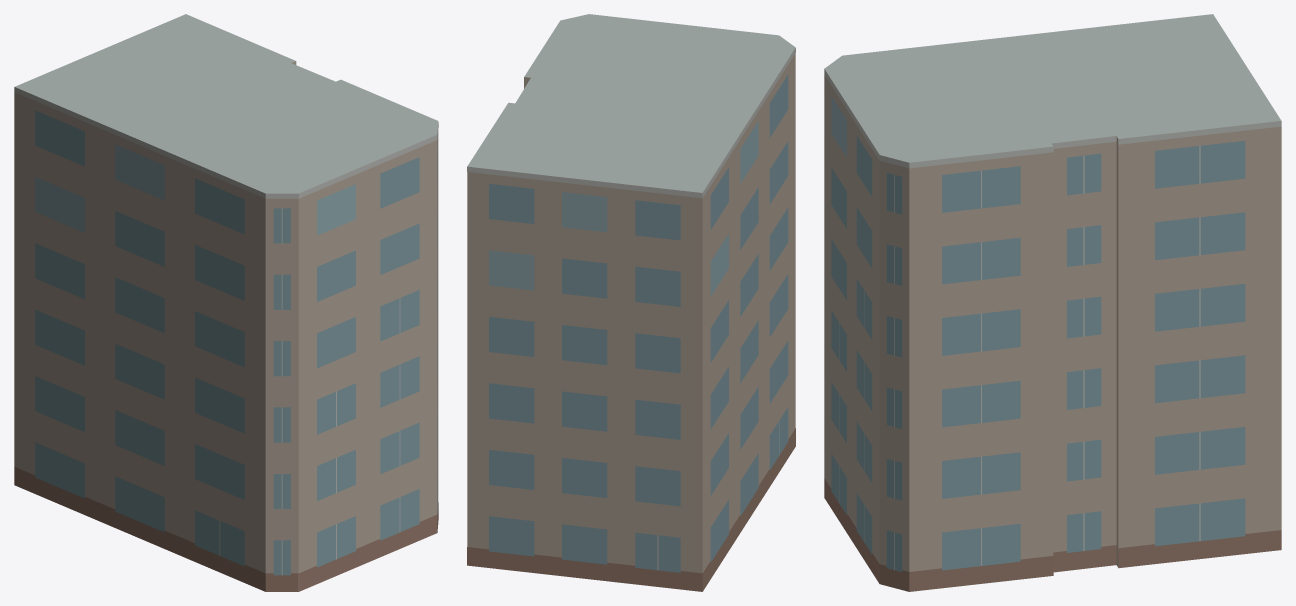
Rendered from survey-upis-32569386.glb.
The picture shows the model from 3 angles, left to right: view 1: azimuth 30°, elevation 25°; view 2: azimuth 150°, elevation 25°; view 3: azimuth 270°, elevation 25°; orthographic projection. The views are drawn at different scales.
Visible parts, largest first — view 1: survey-upis-32569386.tmp; view 2: survey-upis-32569386.tmp; view 3: survey-upis-32569386.tmp.
Part boxes in pixels (x1=…): survey-upis-32569386.tmp: x1=14, y1=14, x2=438, y2=591; survey-upis-32569386.tmp: x1=467, y1=14, x2=795, y2=591; survey-upis-32569386.tmp: x1=824, y1=14, x2=1281, y2=591.
Bounding box in the file's own units: 13.84 × 18.6 × 17.97.
